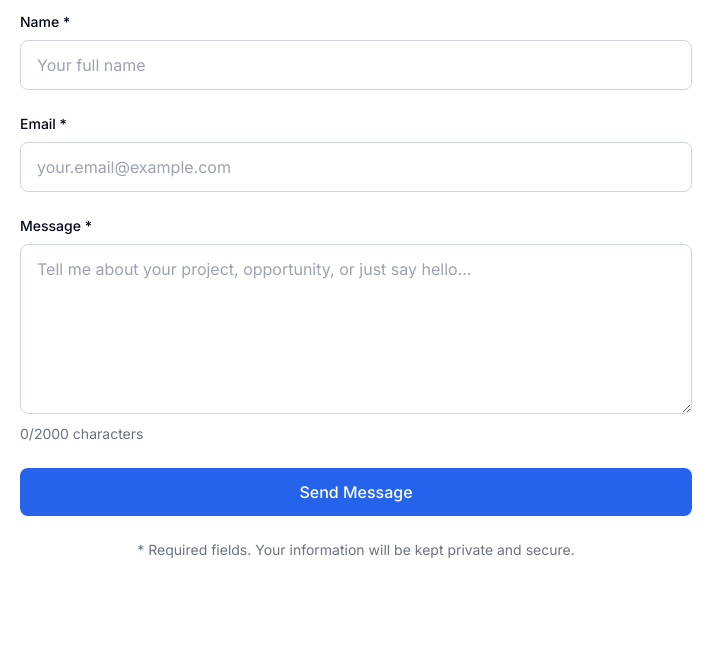
Test: ContactForm › shows validation errors for empty required fields
This screenshot has width=713, height=647.
Click the button "Send Message" at {"x": 356, "y": 492}, box [20,468,692,516]
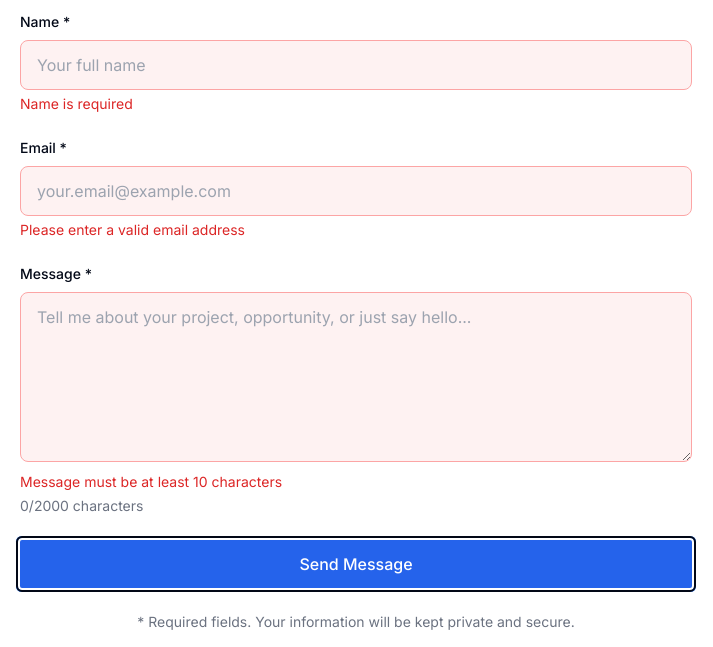
Expected: the text "Name is required" is shown, [20,95,133,112]
Expected: the text "Please enter a valid email address" is shown, [20,221,245,238]
Expected: the text "Message must be at least 10 characters" is shown, [20,473,282,490]
